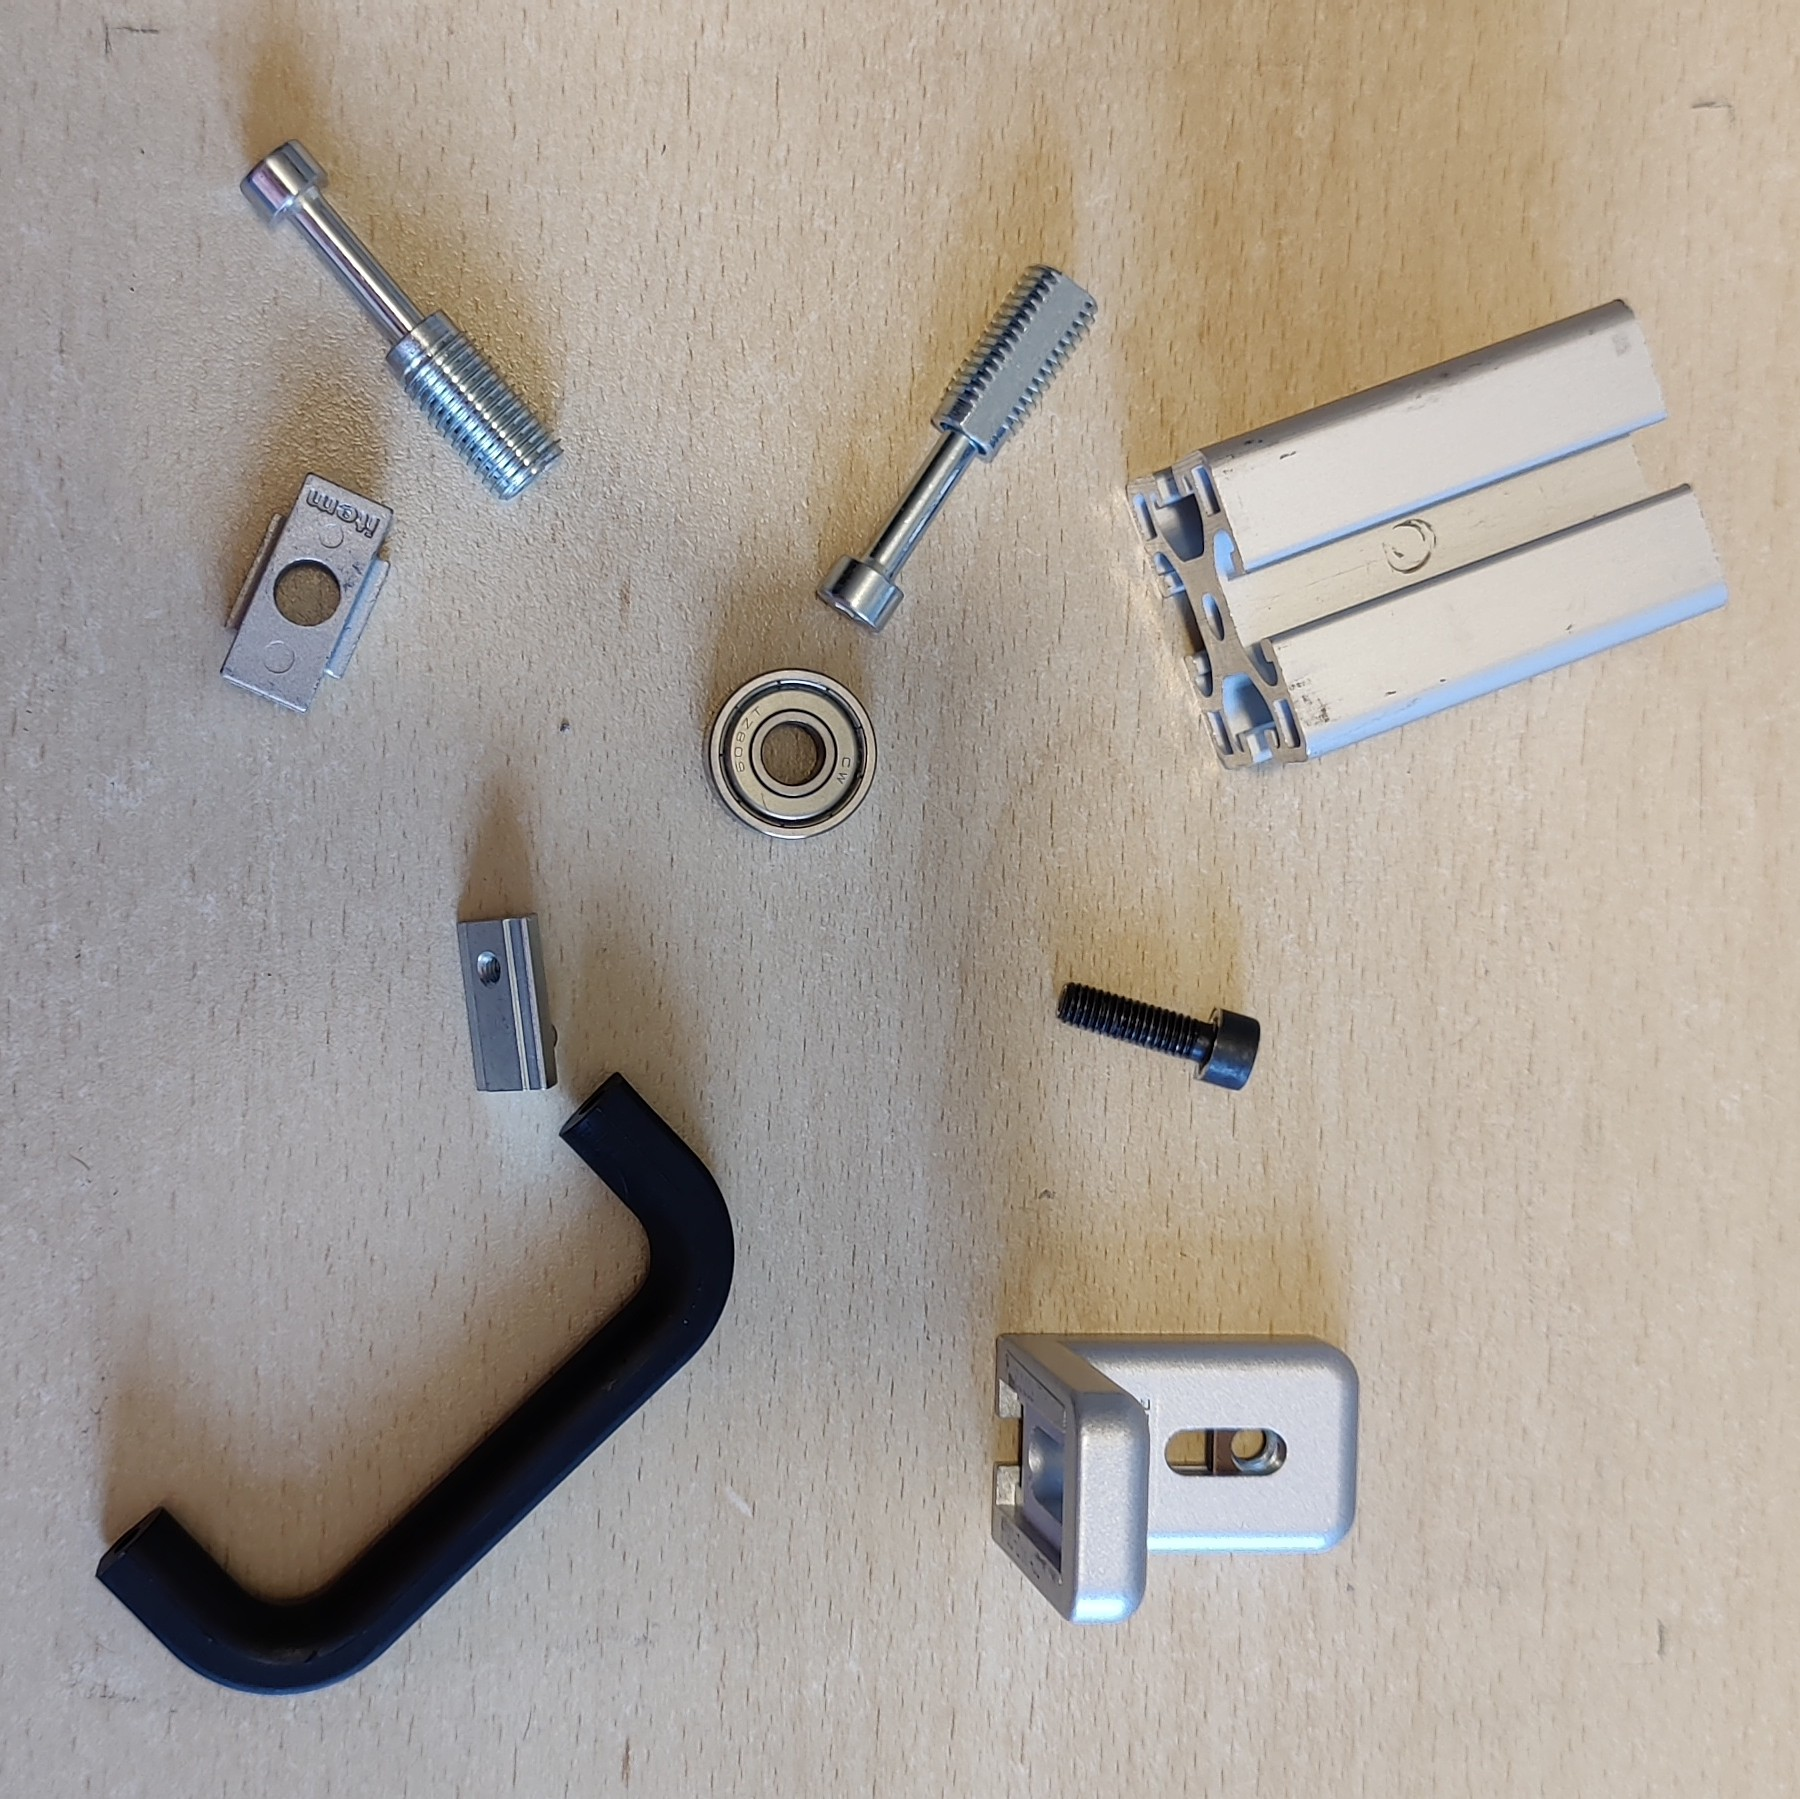Aluminium Extension: (1123, 295, 1732, 773)
Ball Bearing: (700, 664, 881, 842)
Multiwinkel: (990, 1326, 1362, 1628)
Pull Handle: (92, 1069, 739, 1700)
Shoulder Socket Head Cap Screw: (235, 135, 567, 502), (810, 260, 1102, 638)
Socket Head Cap Screw: (1052, 979, 1263, 1092)
T Nut Square: (217, 470, 395, 717)
T Spring Nut: (451, 908, 565, 1096)
